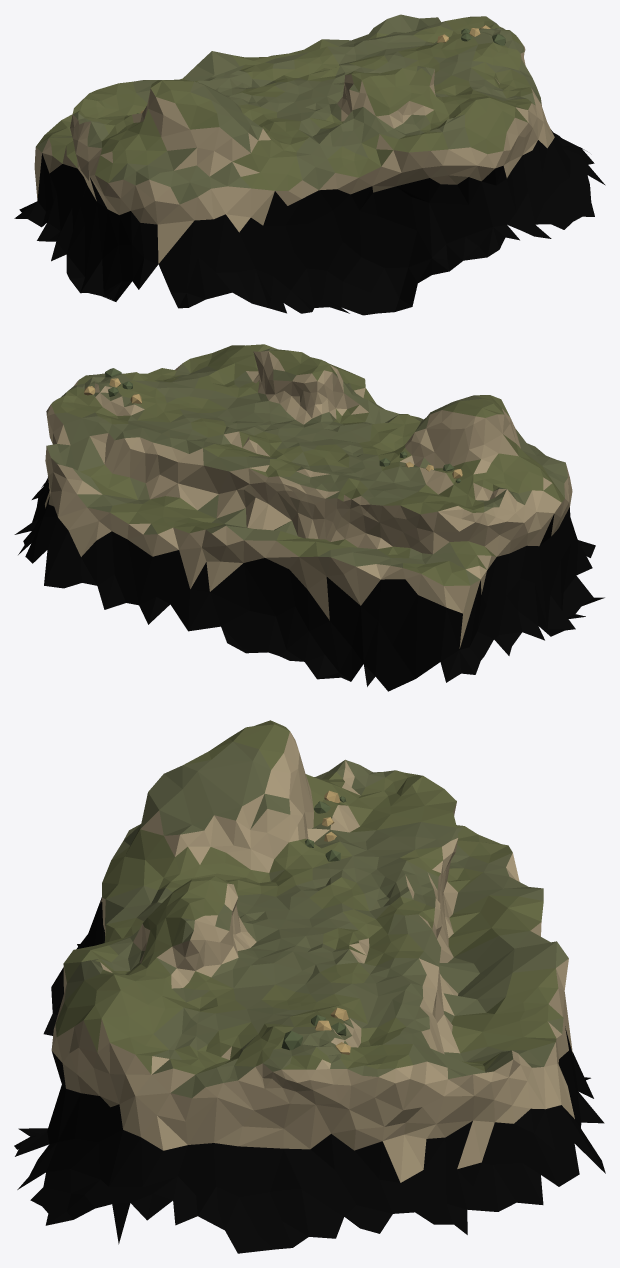
Rendered from alcatraz_island.fbx.
3 renders of one model, top to bottom at view 1: azimuth 30°, elevation 25°; view 2: azimuth 150°, elevation 25°; view 3: azimuth 270°, elevation 25°, orthographic. The views are drawn at different scales.
Parts seen in each view (by area): view 1: alcatraz_island; view 2: alcatraz_island; view 3: alcatraz_island.
Boxes of the visible parts, x1,y1,x2,y2 form: alcatraz_island: (14, 14, 605, 315); alcatraz_island: (14, 344, 604, 691); alcatraz_island: (14, 720, 605, 1253).
Bounding box in the file's own units: 17337 × 7283 × 11981.
